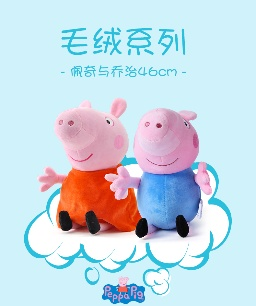Peppa: (36, 98, 142, 237)
